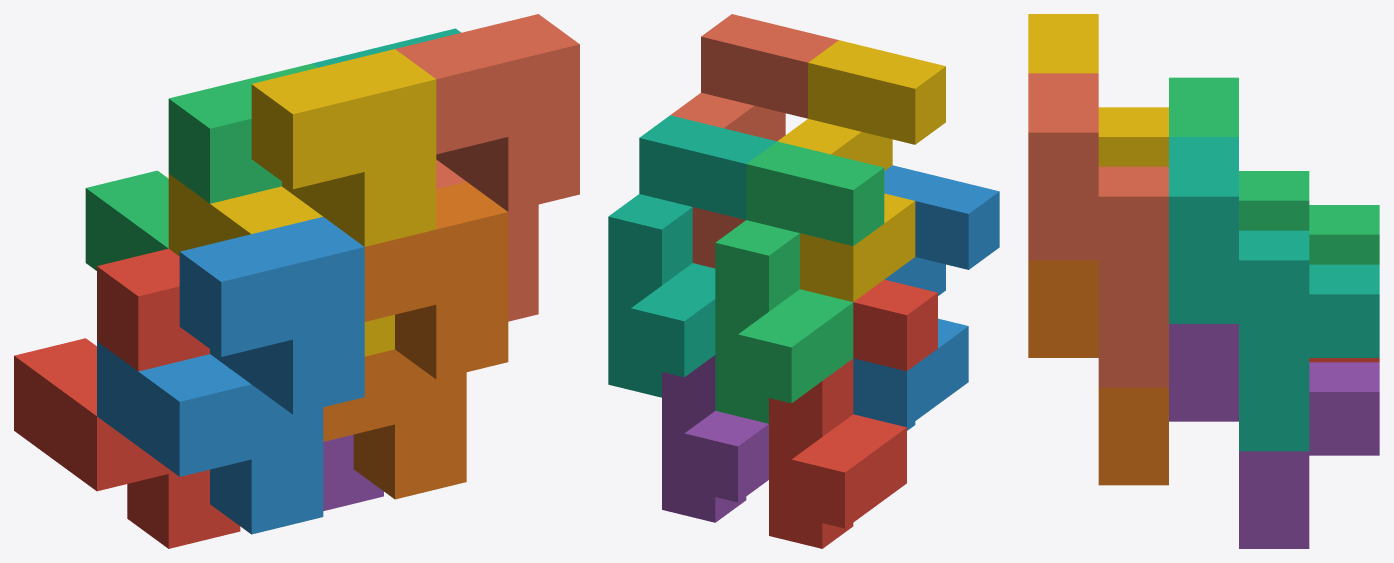
File: tiling.obj
3 renders of one model, left to right at view 1: azimuth 30°, elevation 25°; view 2: azimuth 150°, elevation 25°; view 3: azimuth 270°, elevation 25°, orthographic. The views are drawn at different scales.
Visible parts, largest first — view 1: copy_1_domain_2, copy_1_domain_4, copy_1_domain_6, copy_1_domain_8, copy_1_domain_1, copy_1_domain_3, copy_1_domain_5, copy_1_domain_7; view 2: copy_1_domain_3, copy_1_domain_7, copy_1_domain_1, copy_1_domain_4, copy_1_domain_2, copy_1_domain_8, copy_1_domain_5; view 3: copy_1_domain_7, copy_1_domain_8, copy_1_domain_5, copy_1_domain_6, copy_1_domain_3, copy_1_domain_4.
Part boxes in pixels (bbox=[...]): copy_1_domain_2: bbox=[97, 217, 364, 534]; copy_1_domain_4: bbox=[168, 49, 436, 356]; copy_1_domain_6: bbox=[323, 181, 508, 499]; copy_1_domain_8: bbox=[395, 14, 579, 321]; copy_1_domain_1: bbox=[14, 248, 240, 548]; copy_1_domain_3: bbox=[85, 63, 317, 270]; copy_1_domain_5: bbox=[323, 434, 383, 510]; copy_1_domain_7: bbox=[312, 28, 461, 67]; copy_1_domain_3: bbox=[715, 141, 884, 423]; copy_1_domain_7: bbox=[608, 115, 776, 397]; copy_1_domain_1: bbox=[769, 279, 937, 548]; copy_1_domain_4: bbox=[777, 40, 945, 302]; copy_1_domain_2: bbox=[853, 165, 999, 430]; copy_1_domain_8: bbox=[670, 14, 838, 268]; copy_1_domain_5: bbox=[662, 355, 768, 522]; copy_1_domain_7: bbox=[1169, 137, 1379, 451]; copy_1_domain_8: bbox=[1028, 73, 1168, 387]; copy_1_domain_5: bbox=[1169, 324, 1379, 548]; copy_1_domain_6: bbox=[1028, 260, 1168, 485]; copy_1_domain_3: bbox=[1169, 77, 1379, 264]; copy_1_domain_4: bbox=[1028, 14, 1168, 166].
Size of the model in its own units: 5 by 7 by 5.
